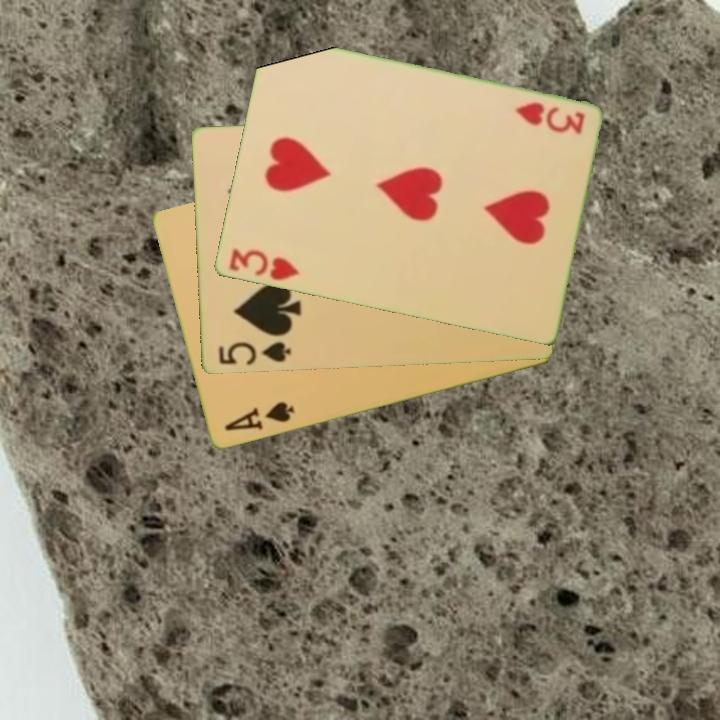3h: (225, 245, 301, 284), (511, 98, 587, 137)
5s: (214, 339, 293, 368)
As: (220, 398, 298, 435)
